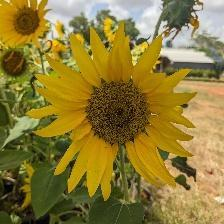sunflower: (50, 34, 197, 196), (1, 1, 55, 48), (1, 47, 41, 84), (42, 34, 72, 57), (101, 15, 118, 43), (54, 19, 68, 36)
